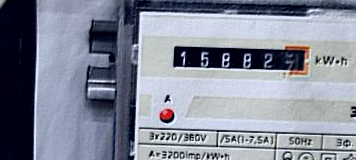1: (178, 50, 188, 66)
2: (262, 52, 273, 69)
5: (199, 51, 210, 67)
7: (284, 59, 293, 71)
8: (220, 52, 231, 69), (241, 52, 252, 69)
screen: (166, 38, 315, 81)
